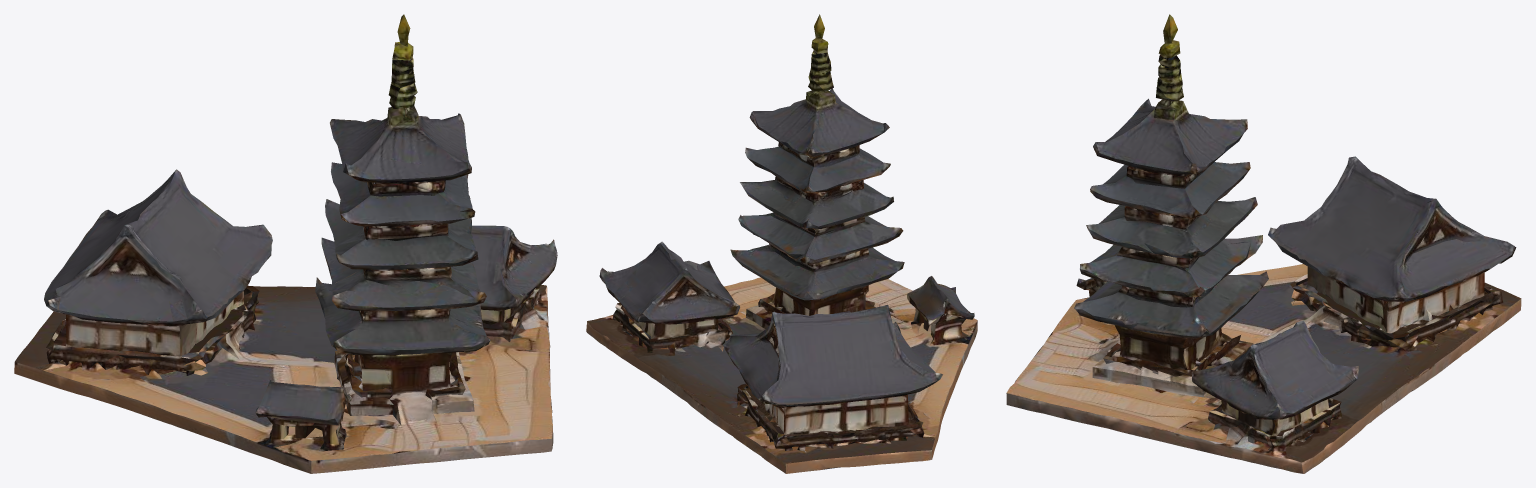
File: toji-temple.glb
3 views of the same model, side by side, from view 1: azimuth 30°, elevation 25°; view 2: azimuth 150°, elevation 25°; view 3: azimuth 270°, elevation 25° (orthographic). The views are drawn at different scales.
Visible parts, largest first — view 1: logan-textured.obj; view 2: logan-textured.obj; view 3: logan-textured.obj.
Part boxes in pixels (x1,y1,x2,y2): logan-textured.obj: (14,14,557,473); logan-textured.obj: (586,14,977,473); logan-textured.obj: (1006,14,1521,473).
Size of the model in its own units: 1 by 0.7787 by 0.9999.
1 material, 1 textured.
